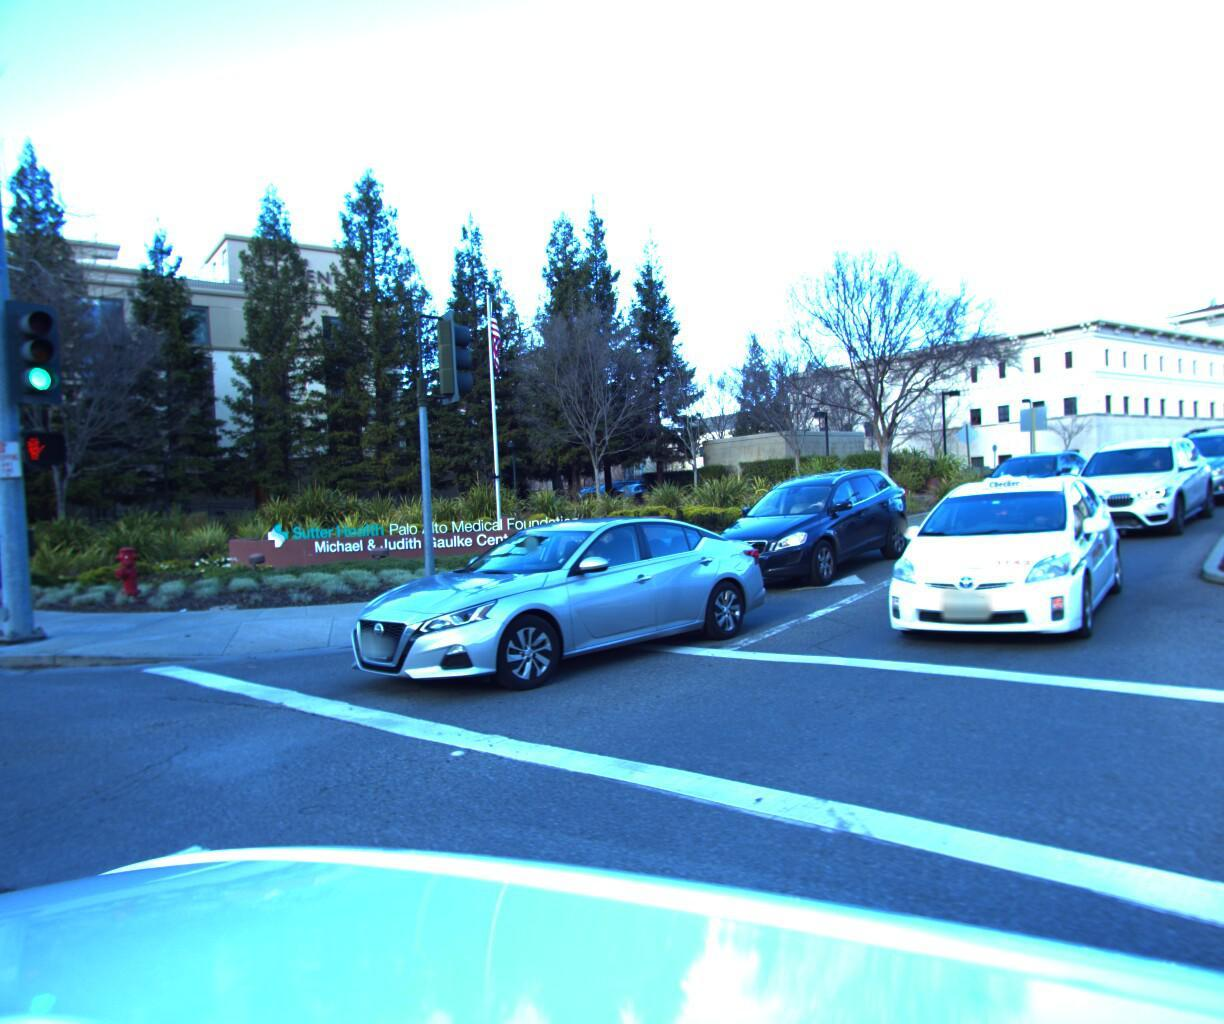car: (295, 499, 786, 722), (845, 464, 1133, 658), (676, 457, 923, 593), (1030, 421, 1224, 537), (946, 443, 1118, 519), (1118, 412, 1224, 504), (1207, 419, 1224, 483)
